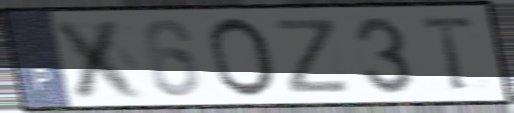3: (351, 14, 418, 96)
6: (141, 17, 202, 99)
O: (206, 15, 280, 99)
T: (417, 14, 478, 94)
X: (50, 17, 150, 100)
Z: (272, 16, 353, 96)
